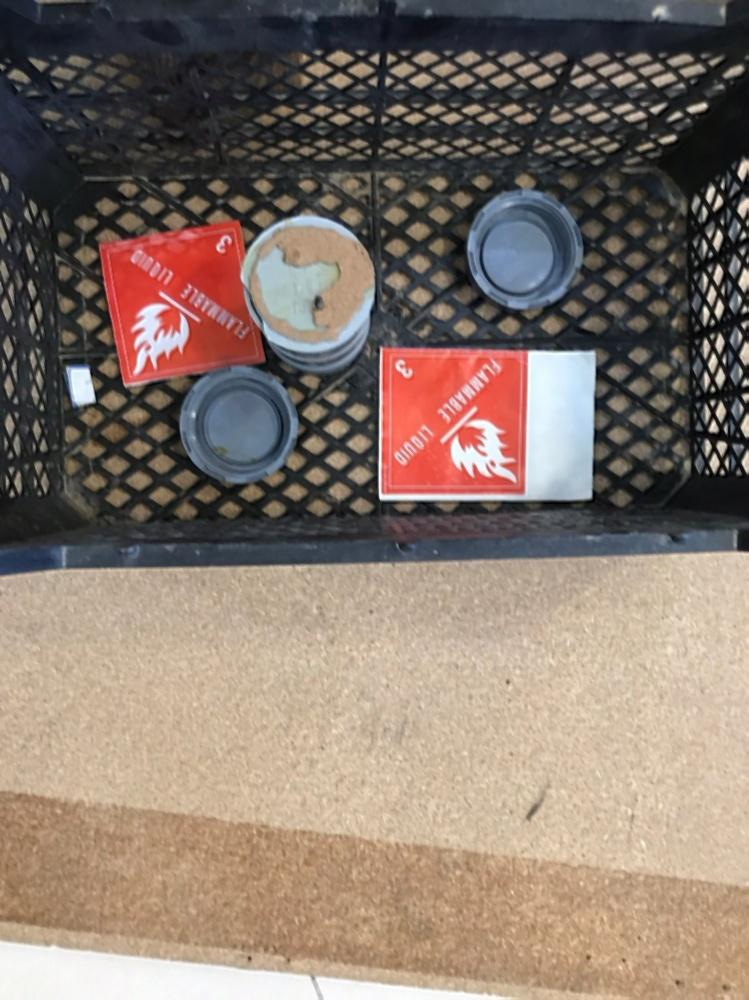flammable: (93, 219, 269, 388), (383, 349, 525, 498)
